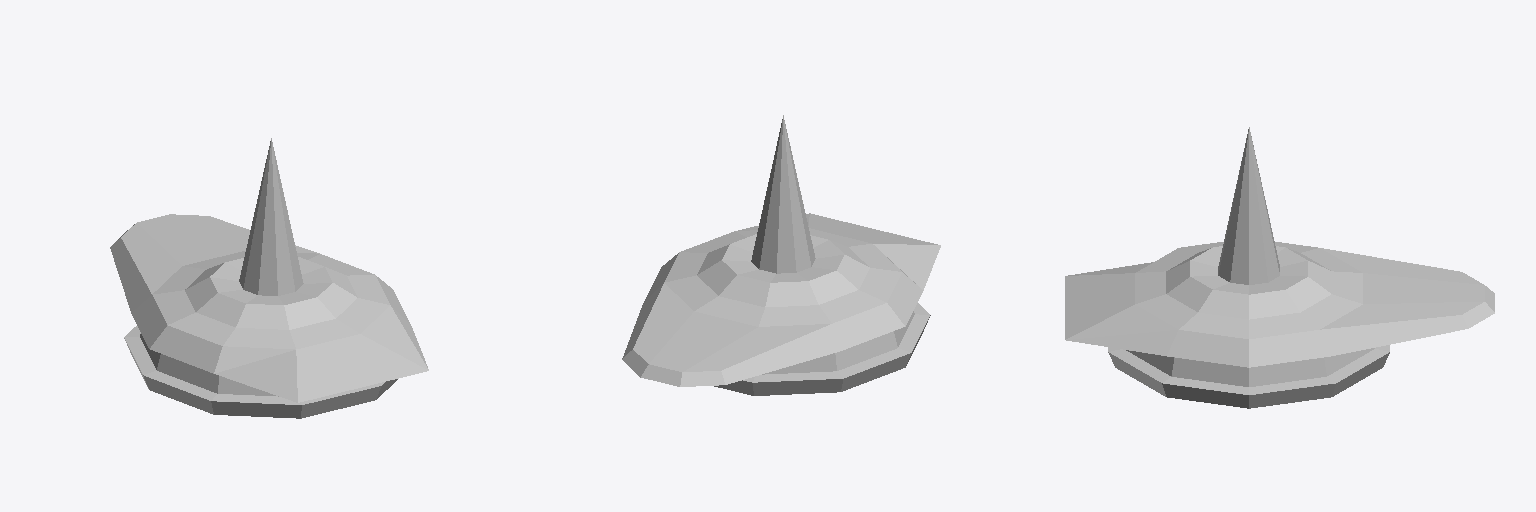
The model's file is shield2.obj.
3 views of the same model, side by side, from view 1: azimuth 30°, elevation 25°; view 2: azimuth 150°, elevation 25°; view 3: azimuth 270°, elevation 25° (orthographic).
Visible parts, largest first — view 1: Sphere; view 2: Sphere; view 3: Sphere.
Boxes of the visible parts, x1=… form: Sphere: x1=110, y1=138, x2=428, y2=418; Sphere: x1=622, y1=115, x2=940, y2=395; Sphere: x1=1065, y1=127, x2=1494, y2=408.
Bounding box in the file's own units: 2 × 1.94 × 2.91.